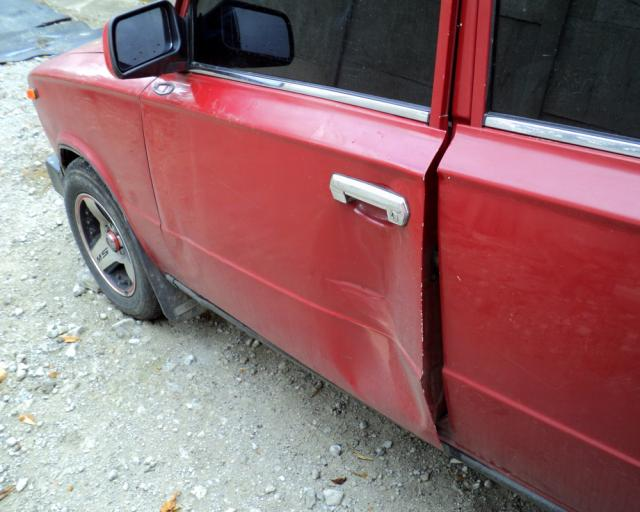dent: (312, 207, 425, 424)
